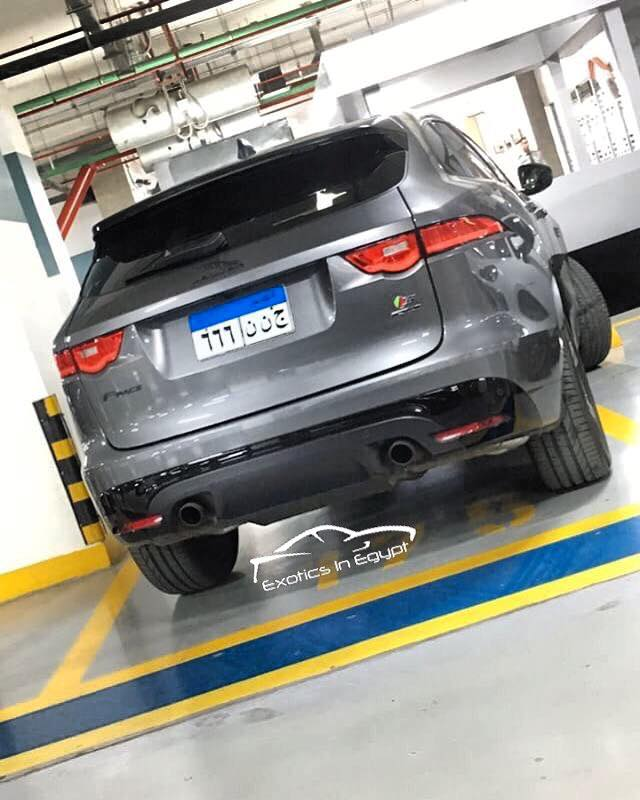carpl: (191, 298, 293, 356)
